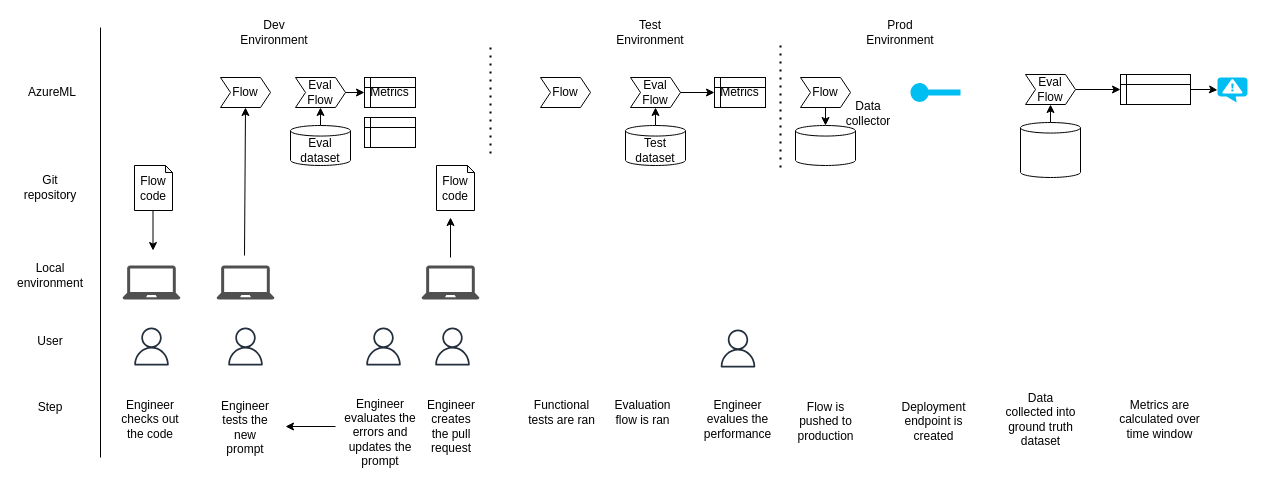
This 1264x485 diagram has some shape labels left out. The shapes that lost their labels are listed below. From the top down, each one's centre as x and y in pixels, then its label:
At (x=1155, y=89): "Metrics over time window".
At (x=390, y=132): "Examples".
At (x=825, y=145): "Blob storage".
At (x=1050, y=150): "Ground truth dataset".
